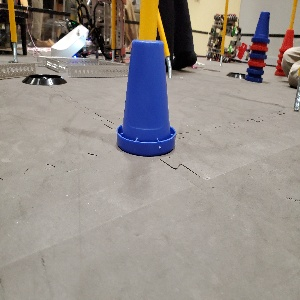Blue_1: (116, 36, 176, 155)
Red_5: (275, 23, 293, 75)
